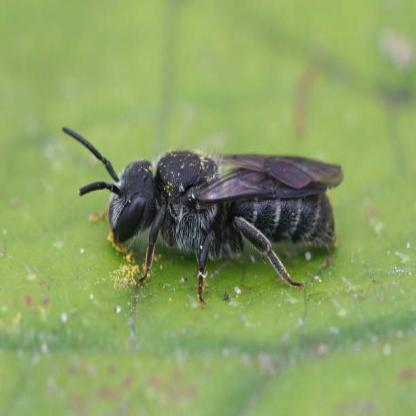sawfly: (60, 124, 346, 310)
